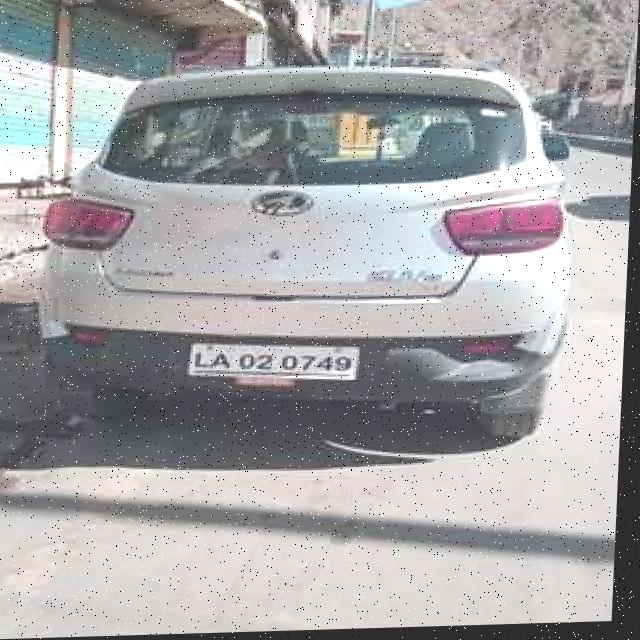plate: (188, 337, 364, 387)
